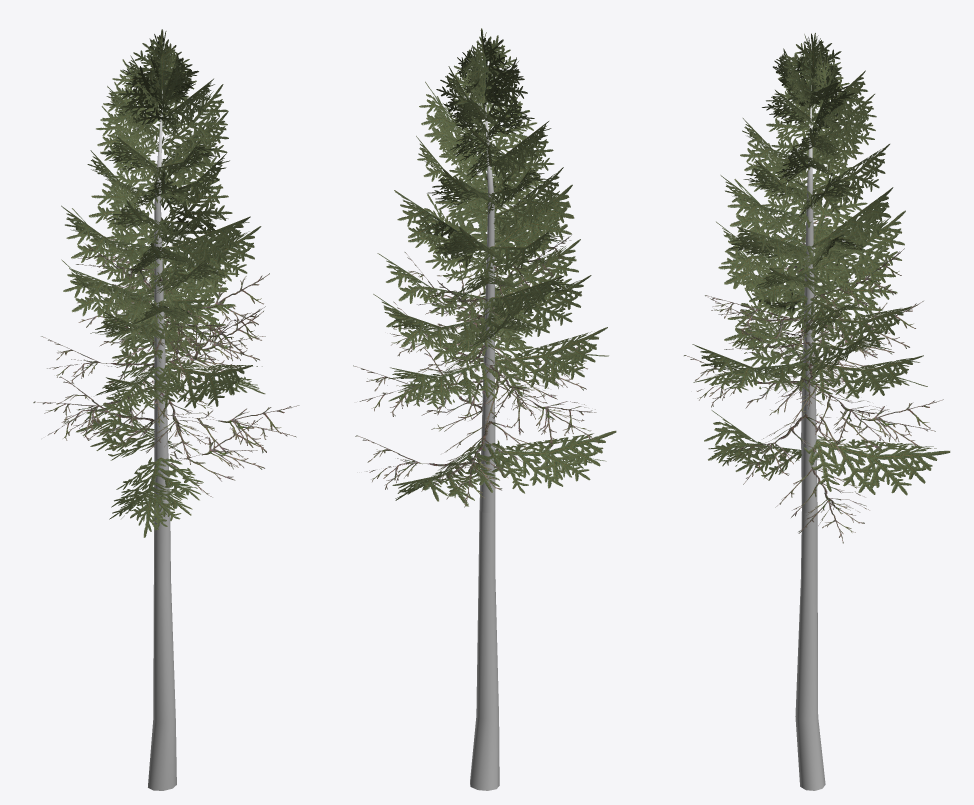
The model's file is fir14_25.dae.
3 renders of one model, left to right at view 1: azimuth 30°, elevation 25°; view 2: azimuth 150°, elevation 25°; view 3: azimuth 270°, elevation 25°, orthographic.
Visible parts, largest first — view 1: fir14_25; view 2: fir14_25; view 3: fir14_25.
Boxes of the visible parts, box(x1,y1,x2,y2) form: fir14_25: box(33, 29, 299, 790); fir14_25: box(353, 28, 616, 790); fir14_25: box(684, 33, 950, 790).
Size of the model in its own units: 67.31 by 67.27 by 189.
